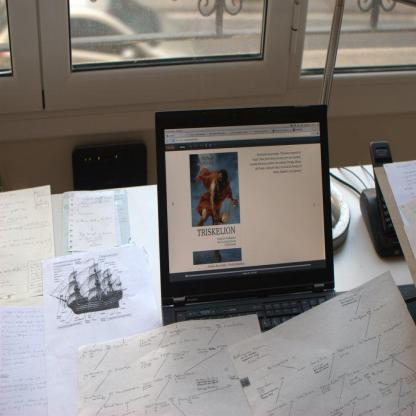board: (155, 105, 338, 334)
